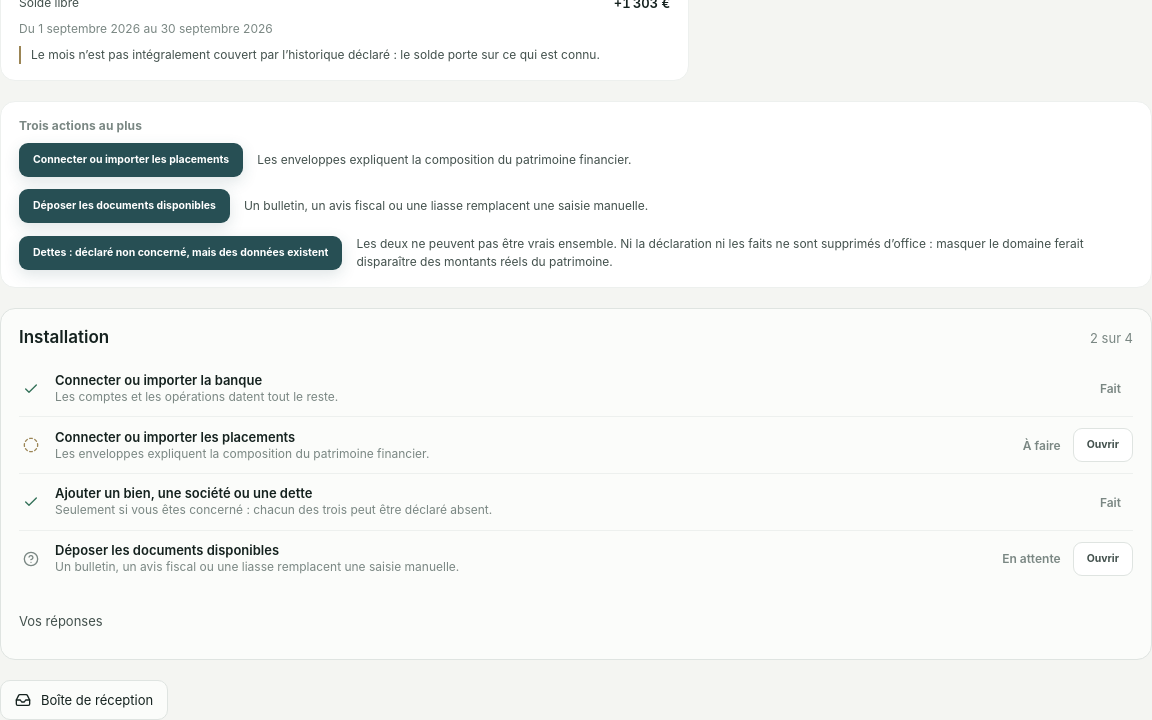
Test: boîte de réception — tiroir, six vues, quatre explications › s'ouvre dans un tiroir et non dans une septième section de la page
The image size is (1152, 720).
(page scrolled)
Click the button "Boîte de réception": [84, 700] box [0,680,168,719]
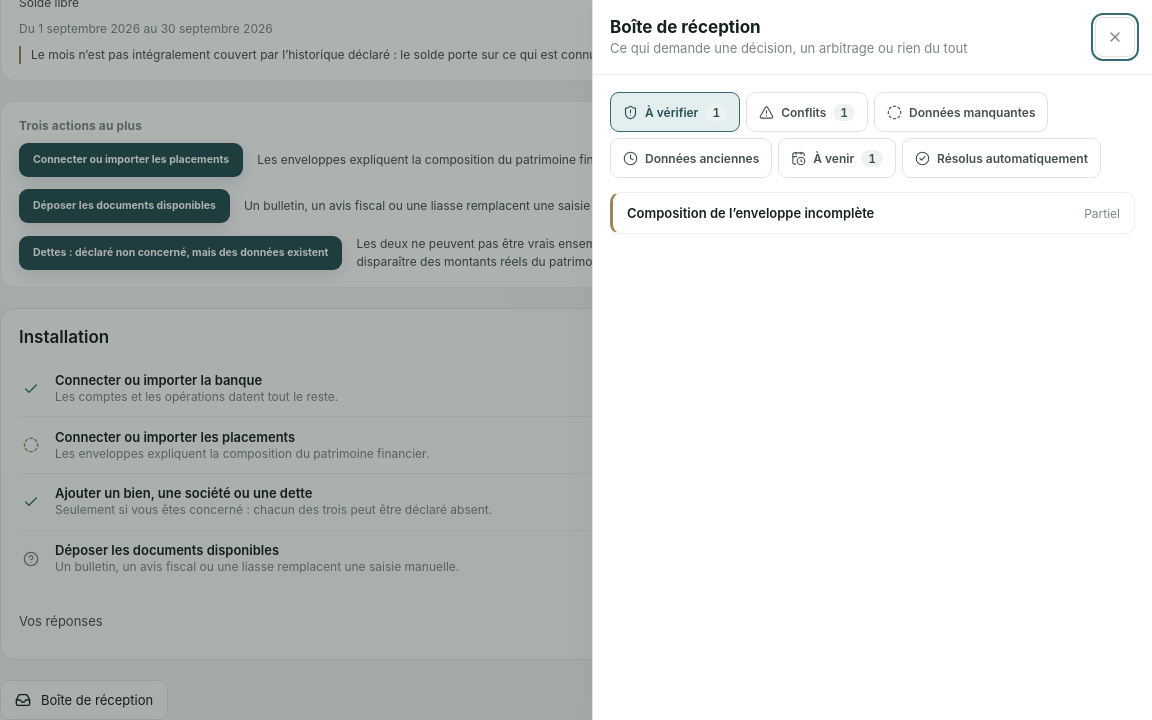
Now the dialog "Boîte de réception" is shown, box [592,0,1151,719]
